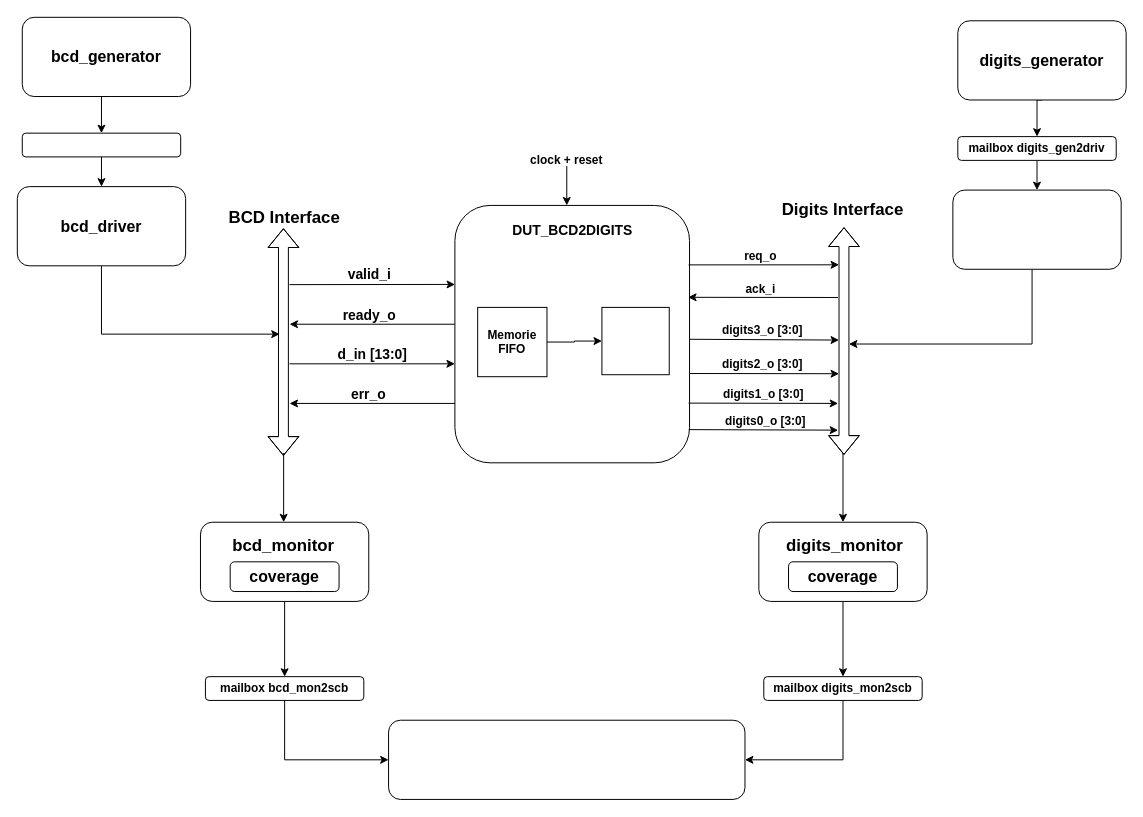
Image size: 1143x817. Some labels were removed from this diagram. The box of each missing label's shape, as (x1, y1, x2, y2) in pixels:
Decodor: (601, 306, 669, 375)
digits_driver: (952, 189, 1121, 269)
mailbox bcd_gen2driv: (21, 132, 181, 157)
scoreboard: (388, 719, 745, 799)
